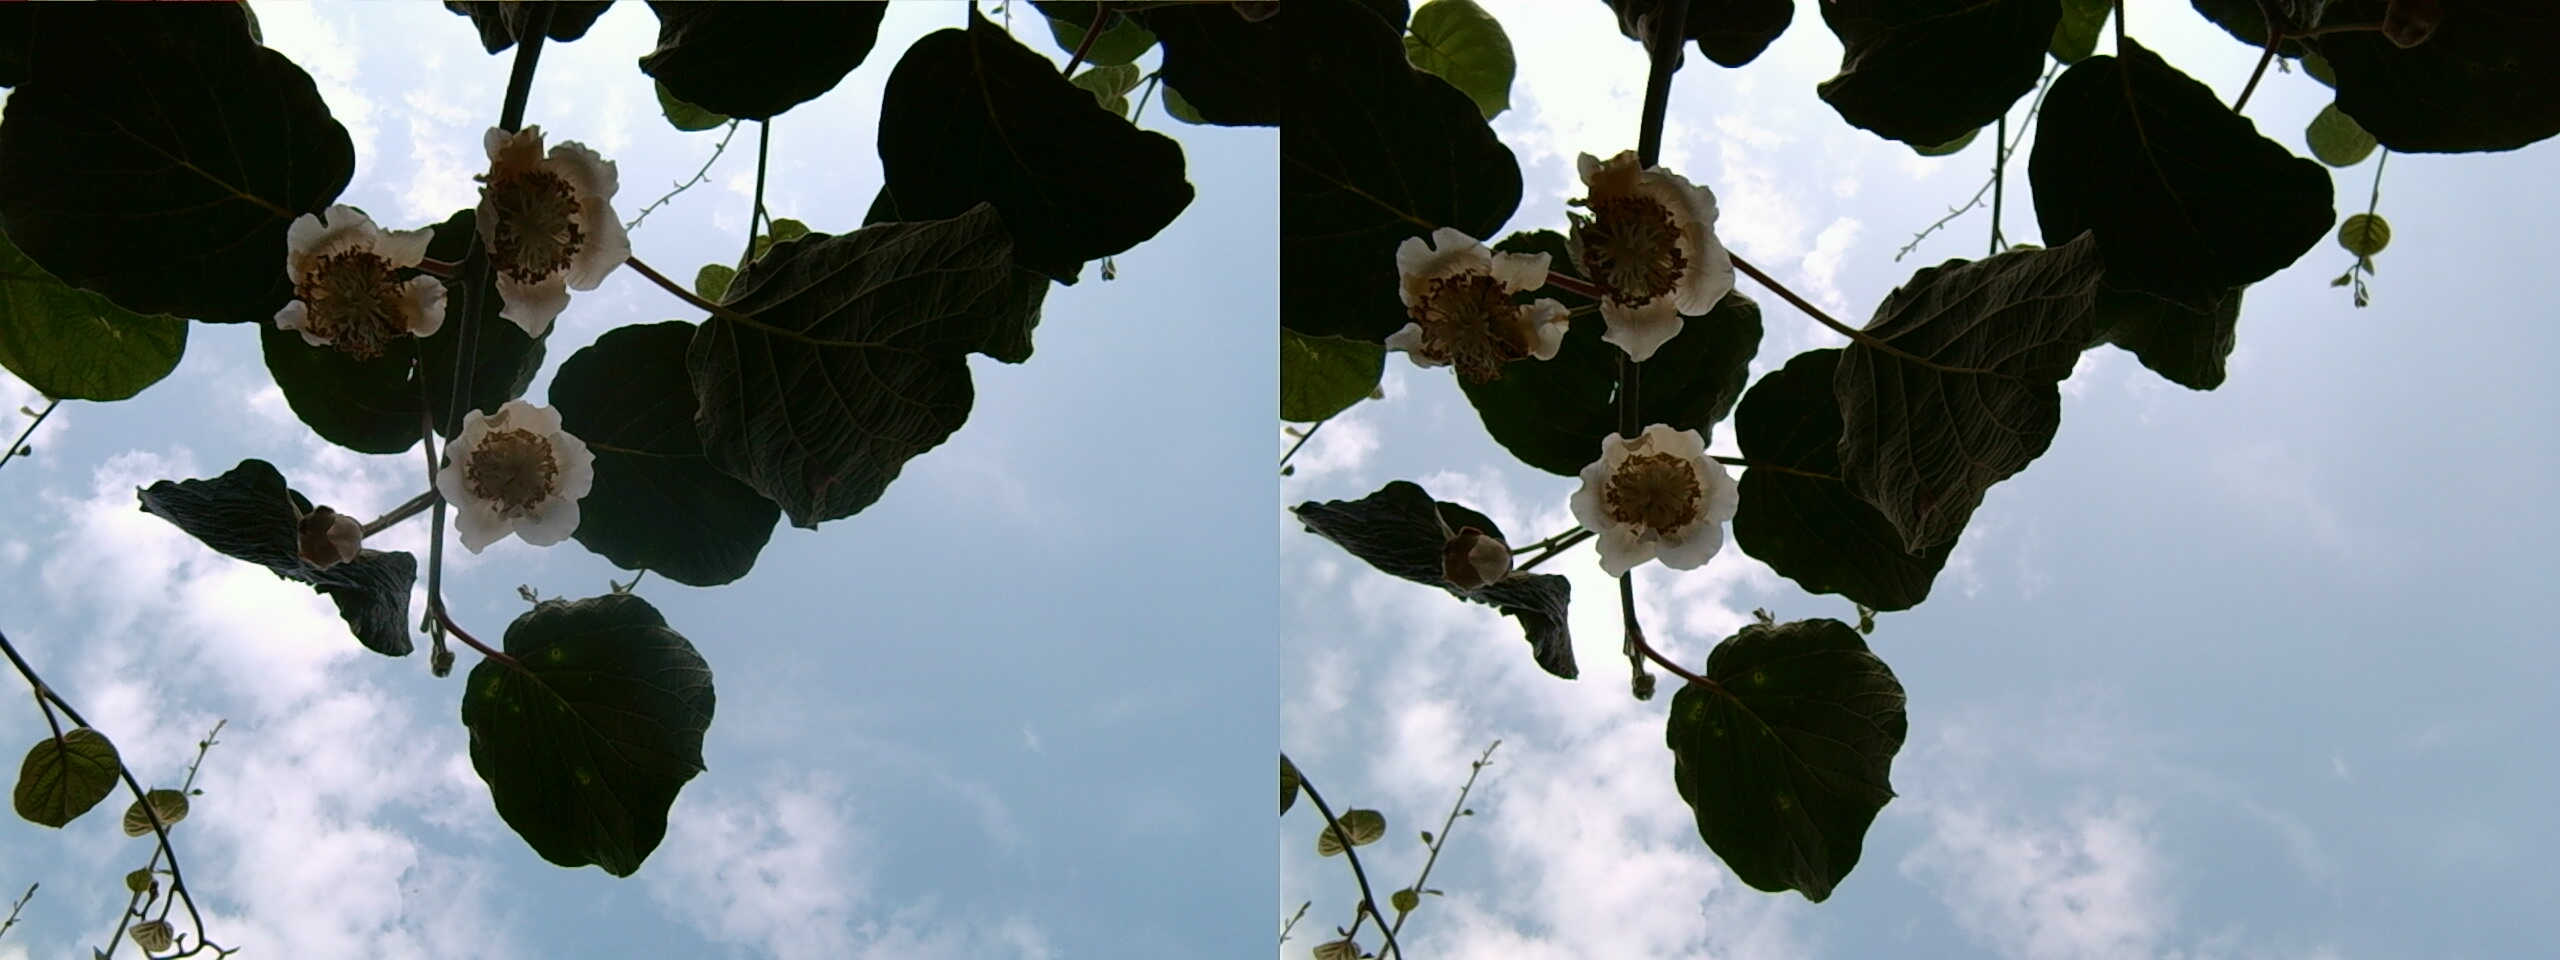flower: (1544, 140, 1732, 349), (451, 118, 633, 315), (273, 206, 465, 376), (1388, 222, 1579, 379), (1562, 411, 1742, 571), (428, 395, 598, 550)
